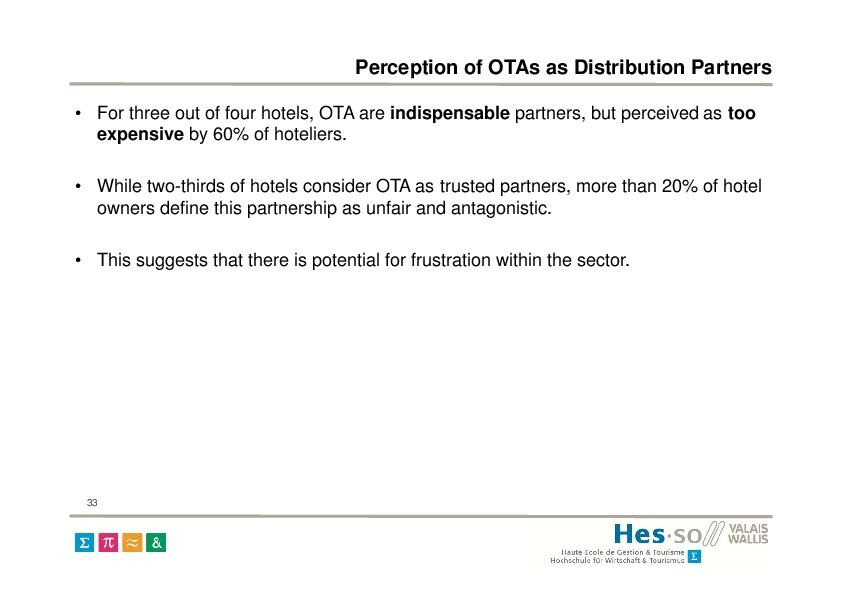paragraph: (70, 91, 778, 293)
title: (349, 47, 782, 82)
